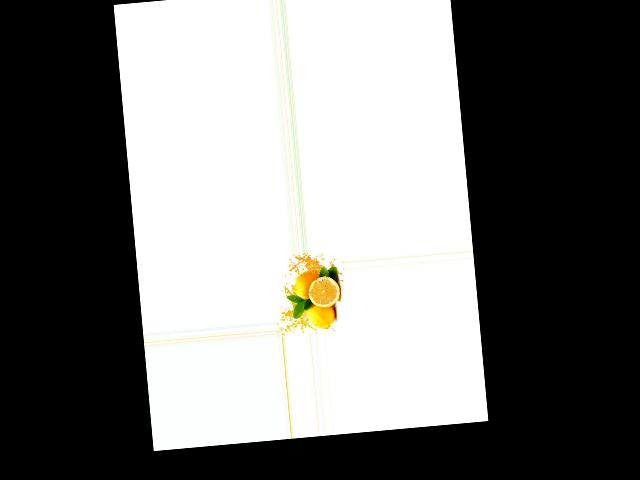lemon: (302, 296, 337, 329)
